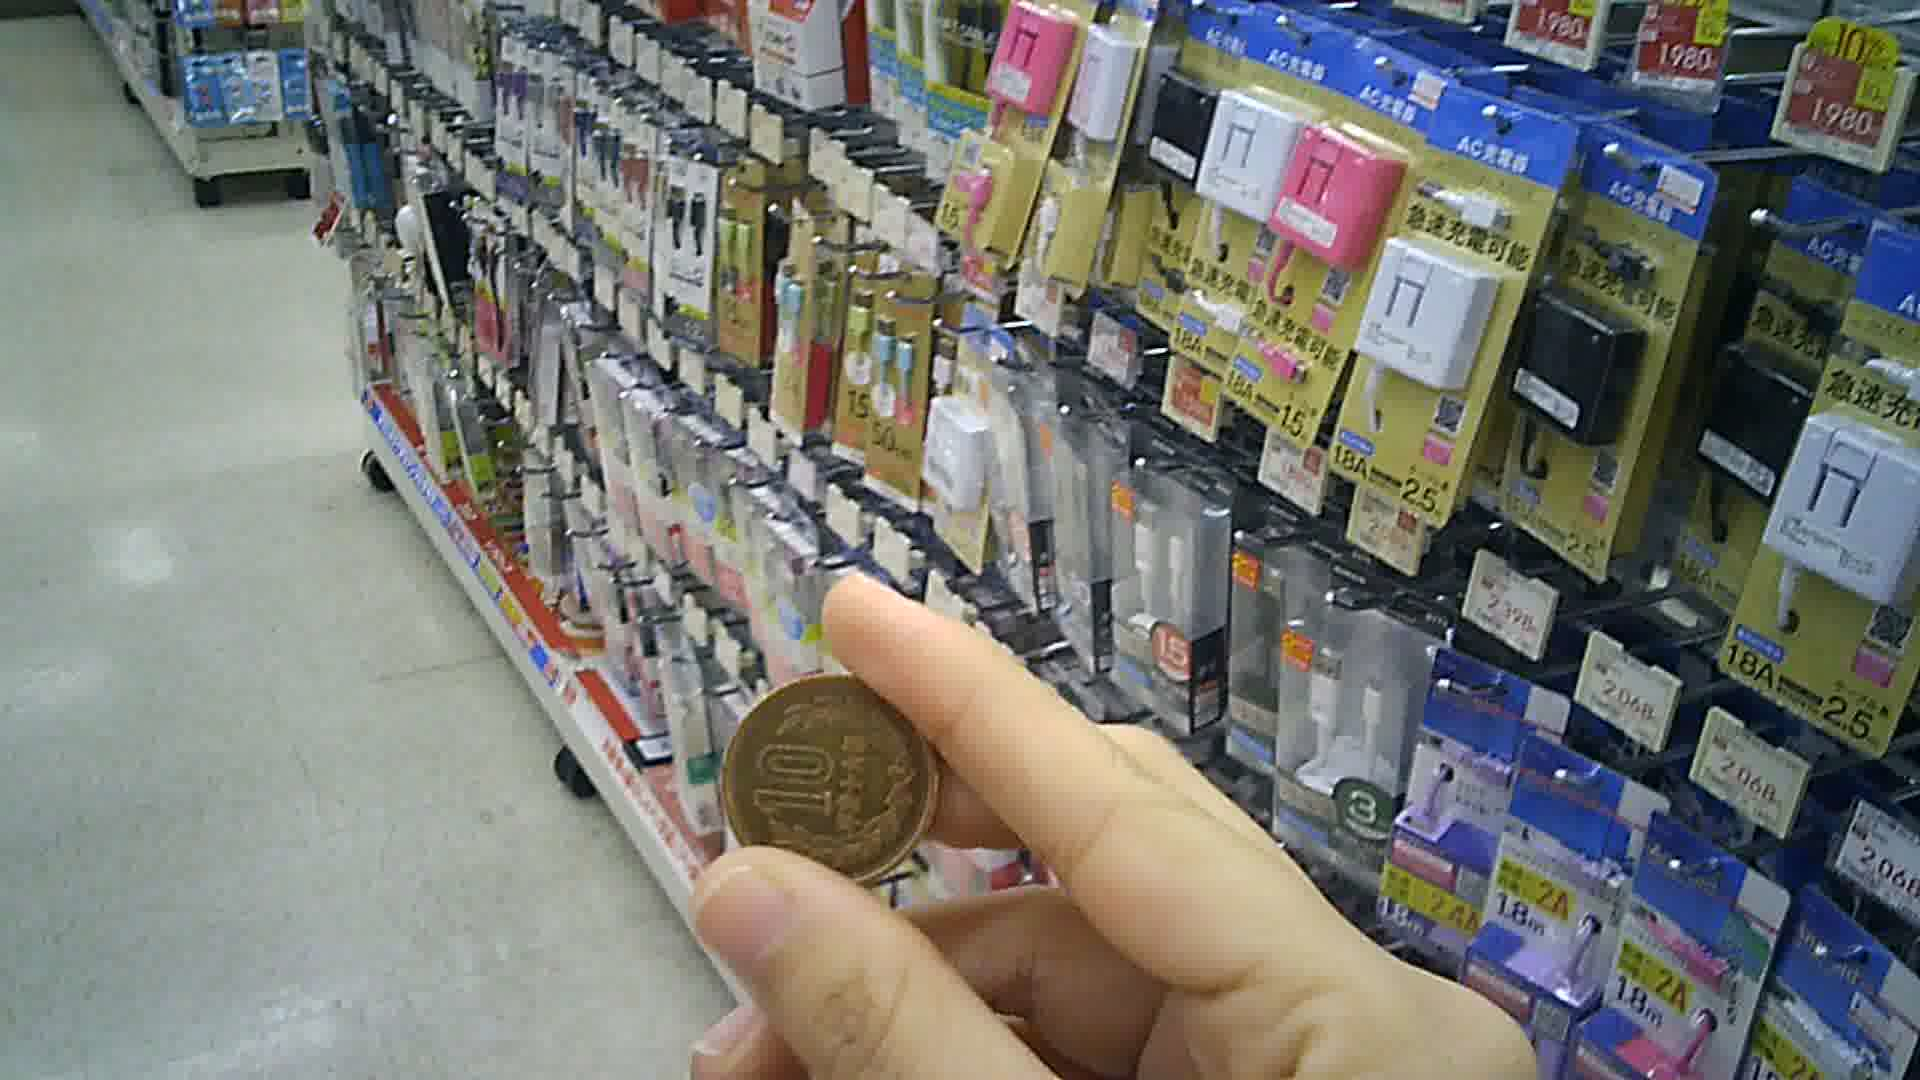10 Yen: (713, 671, 951, 880)
